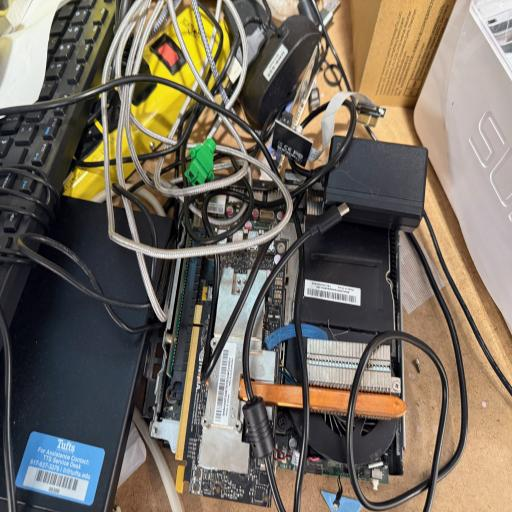Lego-Dude: (184, 138, 216, 185)
